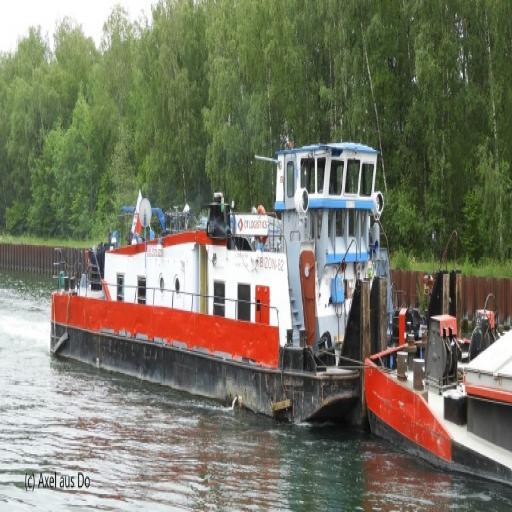tugboat: (49, 132, 469, 440)
